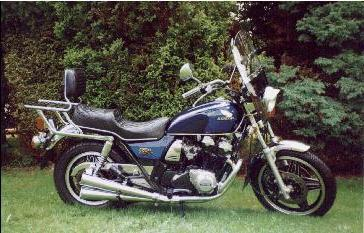motorcycle: (10, 7, 340, 225)
